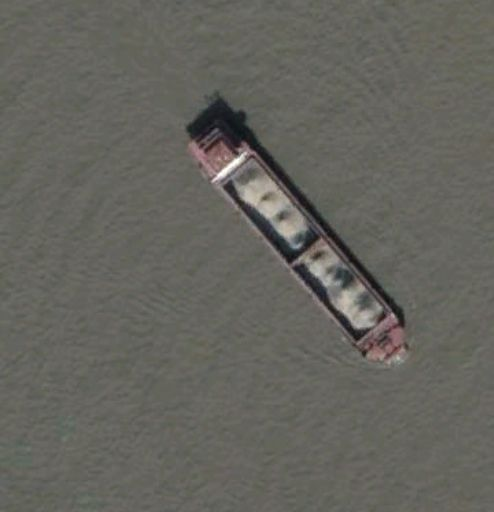boat: (183, 113, 412, 367)
